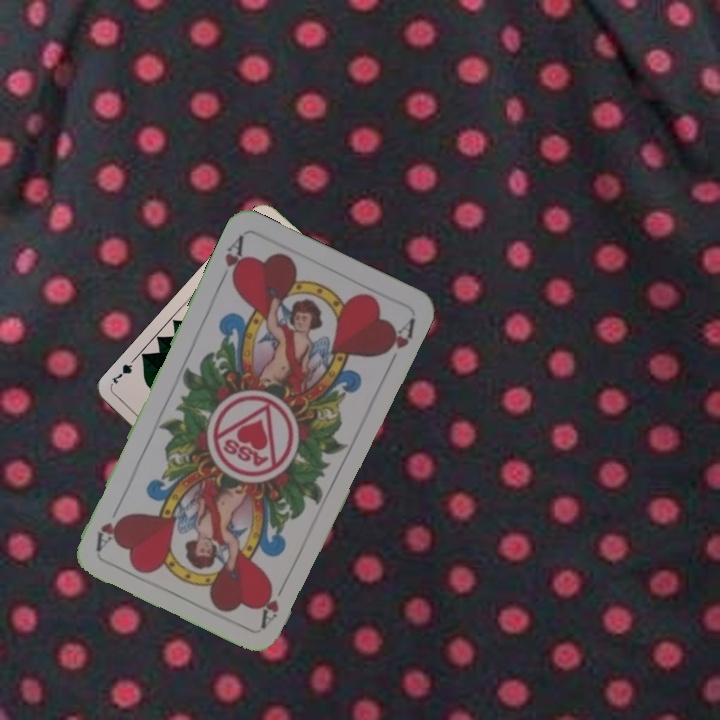HA: (256, 574, 290, 630), (215, 231, 248, 288)
